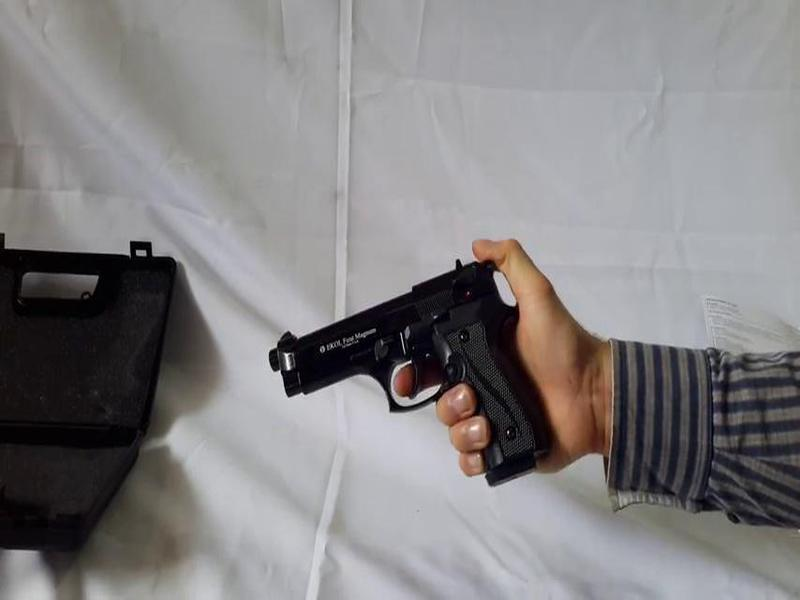Pistola: (252, 246, 580, 506)
